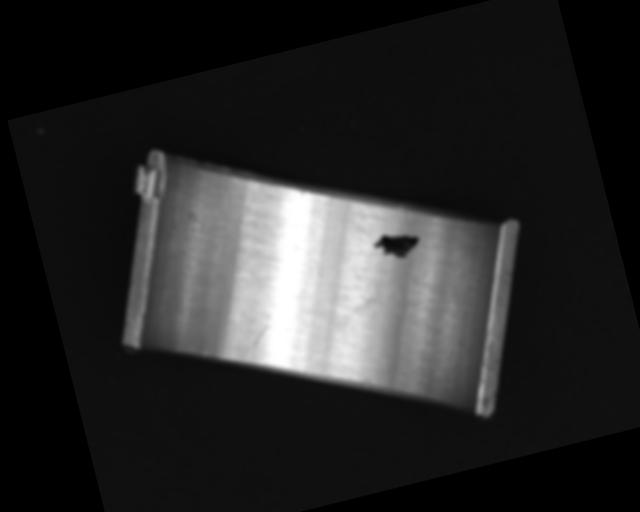blot: (344, 268, 411, 315), (369, 224, 424, 265)
bruise: (362, 377, 372, 388), (297, 188, 307, 198)
nick: (238, 323, 276, 365)
